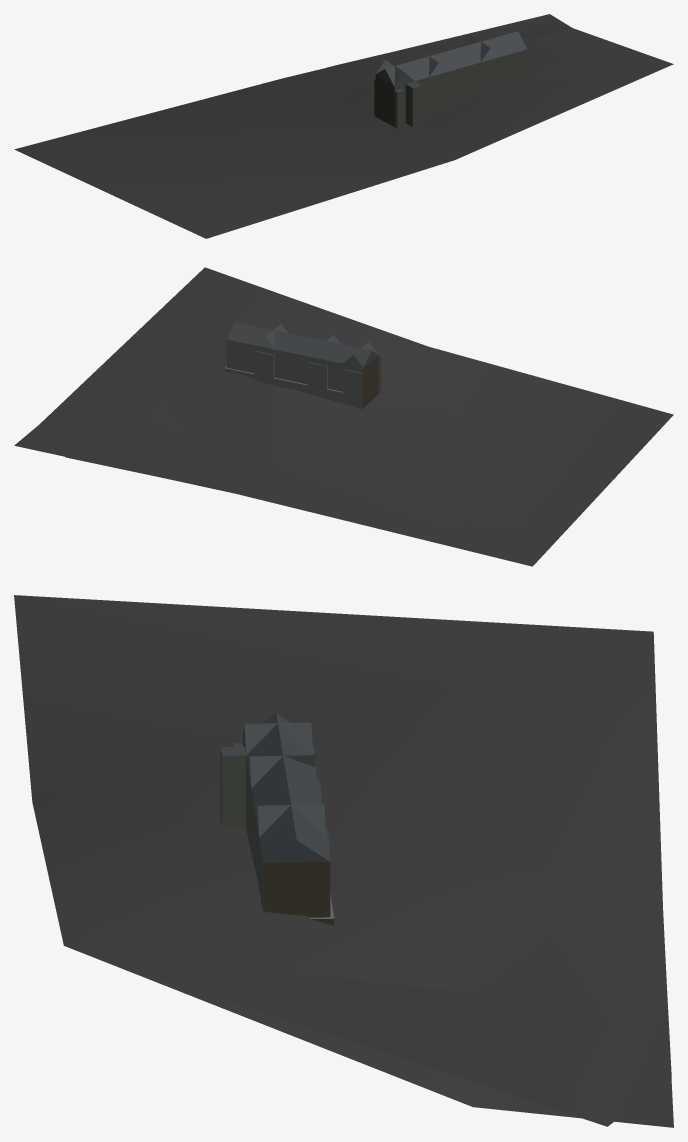
Rendered from riverset-apartment-complex-bld-2.glb.
The picture shows the model from 3 angles, top to bottom: view 1: azimuth 30°, elevation 25°; view 2: azimuth 150°, elevation 25°; view 3: azimuth 270°, elevation 25°; orthographic projection. The views are drawn at different scales.
Parts seen in each view (by area): view 1: LOD0; view 2: LOD0; view 3: LOD0.
Boxes of the visible parts, x1=… form: LOD0: x1=14, y1=14, x2=673, y2=238; LOD0: x1=14, y1=267, x2=673, y2=566; LOD0: x1=14, y1=595, x2=673, y2=1127.
Size of what is drawn, in the model's own units: 196 by 30.68 by 110.
Materials: 2 (2 with a texture image).
